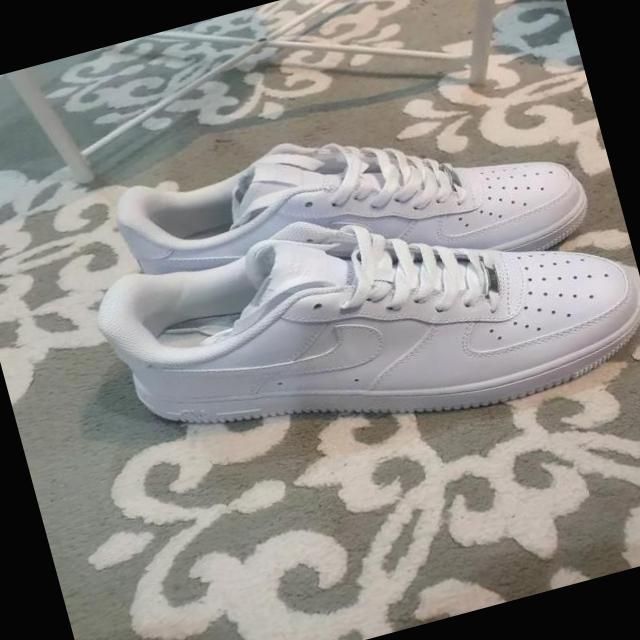nike_original_airforce: (78, 138, 640, 504), (100, 64, 600, 350)
